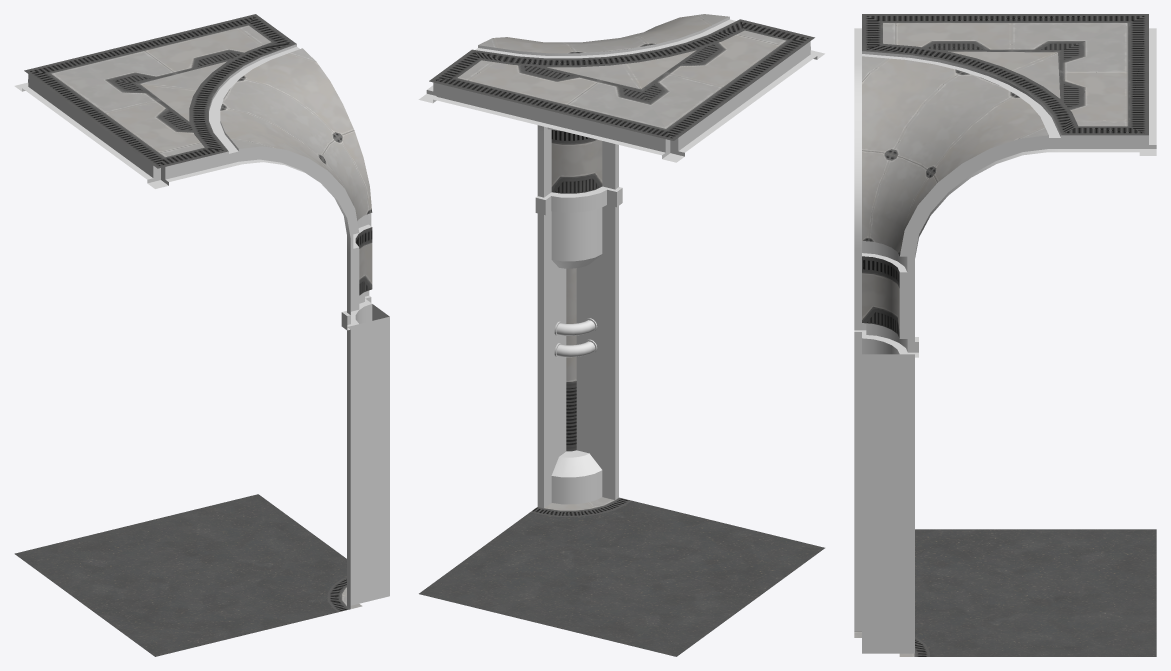
File: wall01_corner02.fbx
3 views of the same model, side by side, from view 1: azimuth 30°, elevation 25°; view 2: azimuth 150°, elevation 25°; view 3: azimuth 270°, elevation 25° (orthographic). The views are drawn at different scales.
Parts seen in each view (by area): view 1: wall01_corner02; view 2: wall01_corner02; view 3: wall01_corner02.
Part boxes in pixels (x1,y1,x2,y2): wall01_corner02: (14, 14, 389, 656); wall01_corner02: (418, 14, 824, 656); wall01_corner02: (854, 14, 1156, 656).
Bounding box in the file's own units: 200 × 379 × 200.
